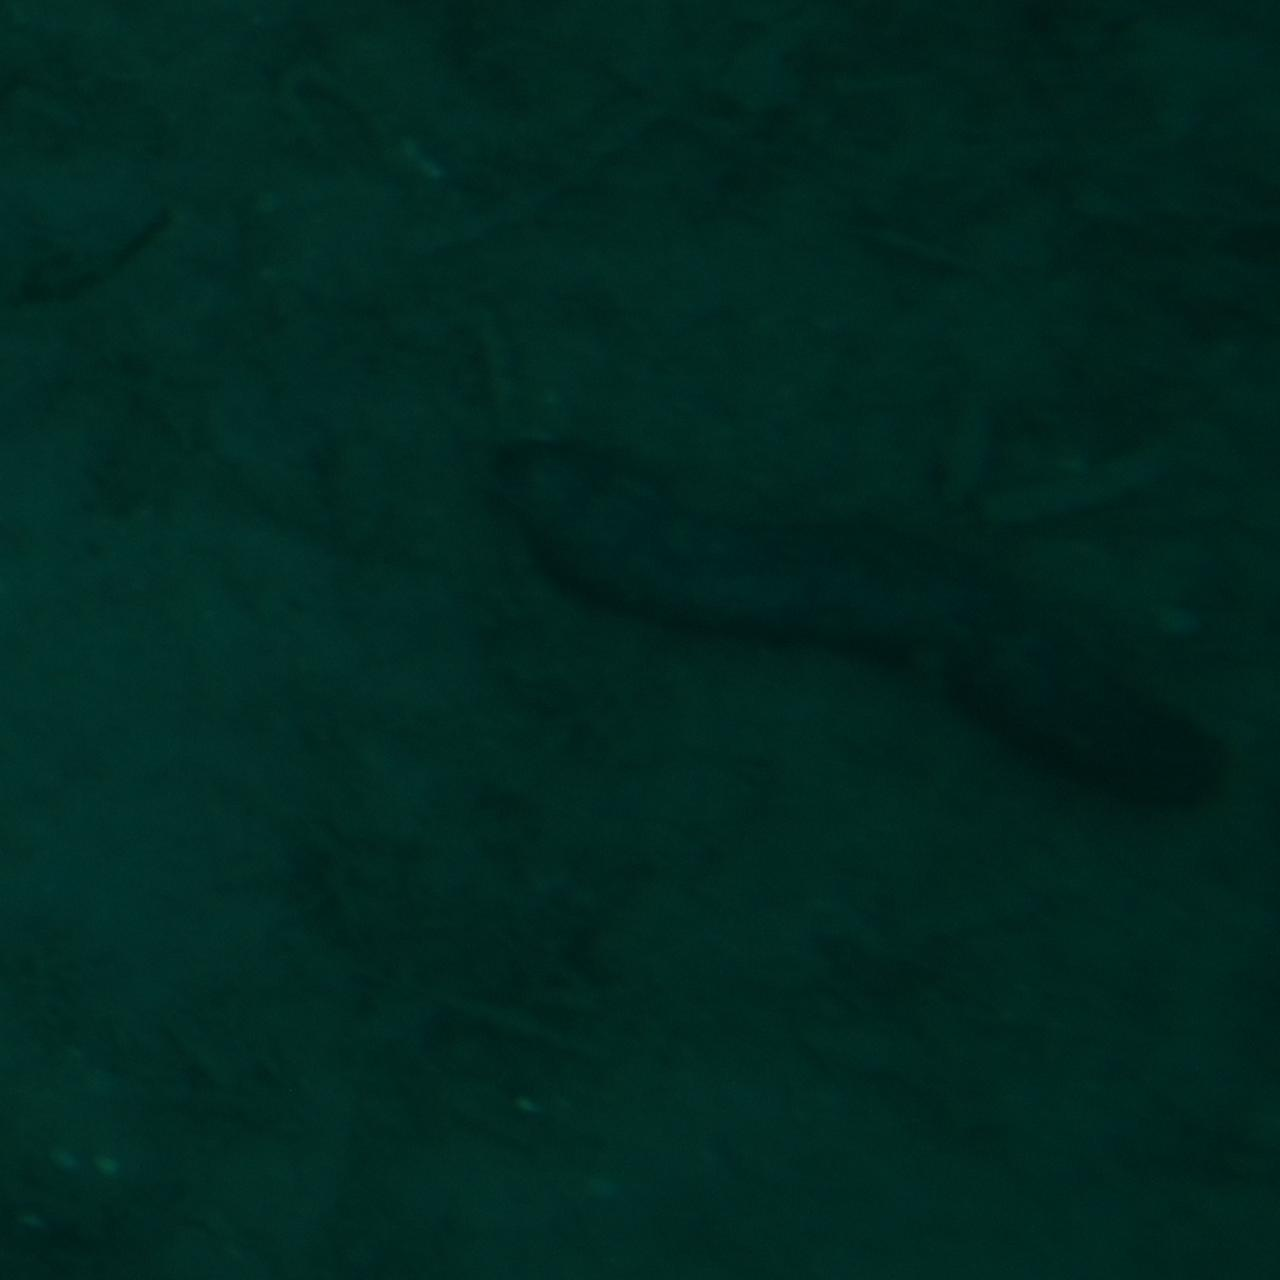Holothuria tubulosa: (486, 444, 1242, 836)
